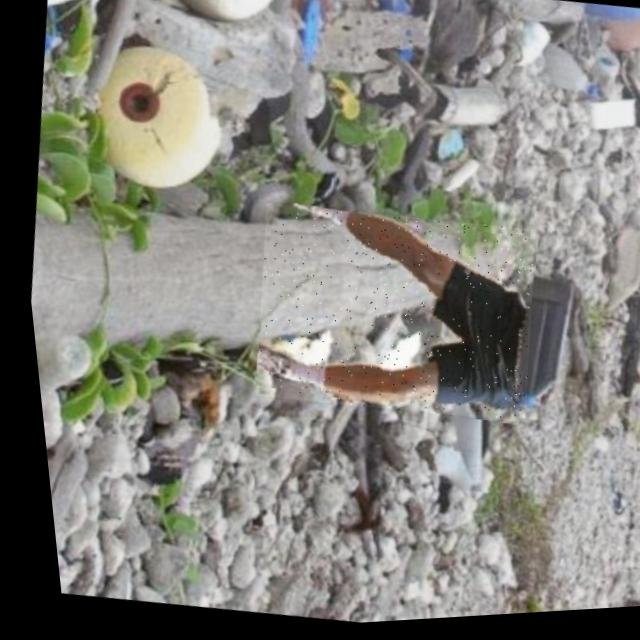Person in Rubble: (231, 194, 545, 441)
